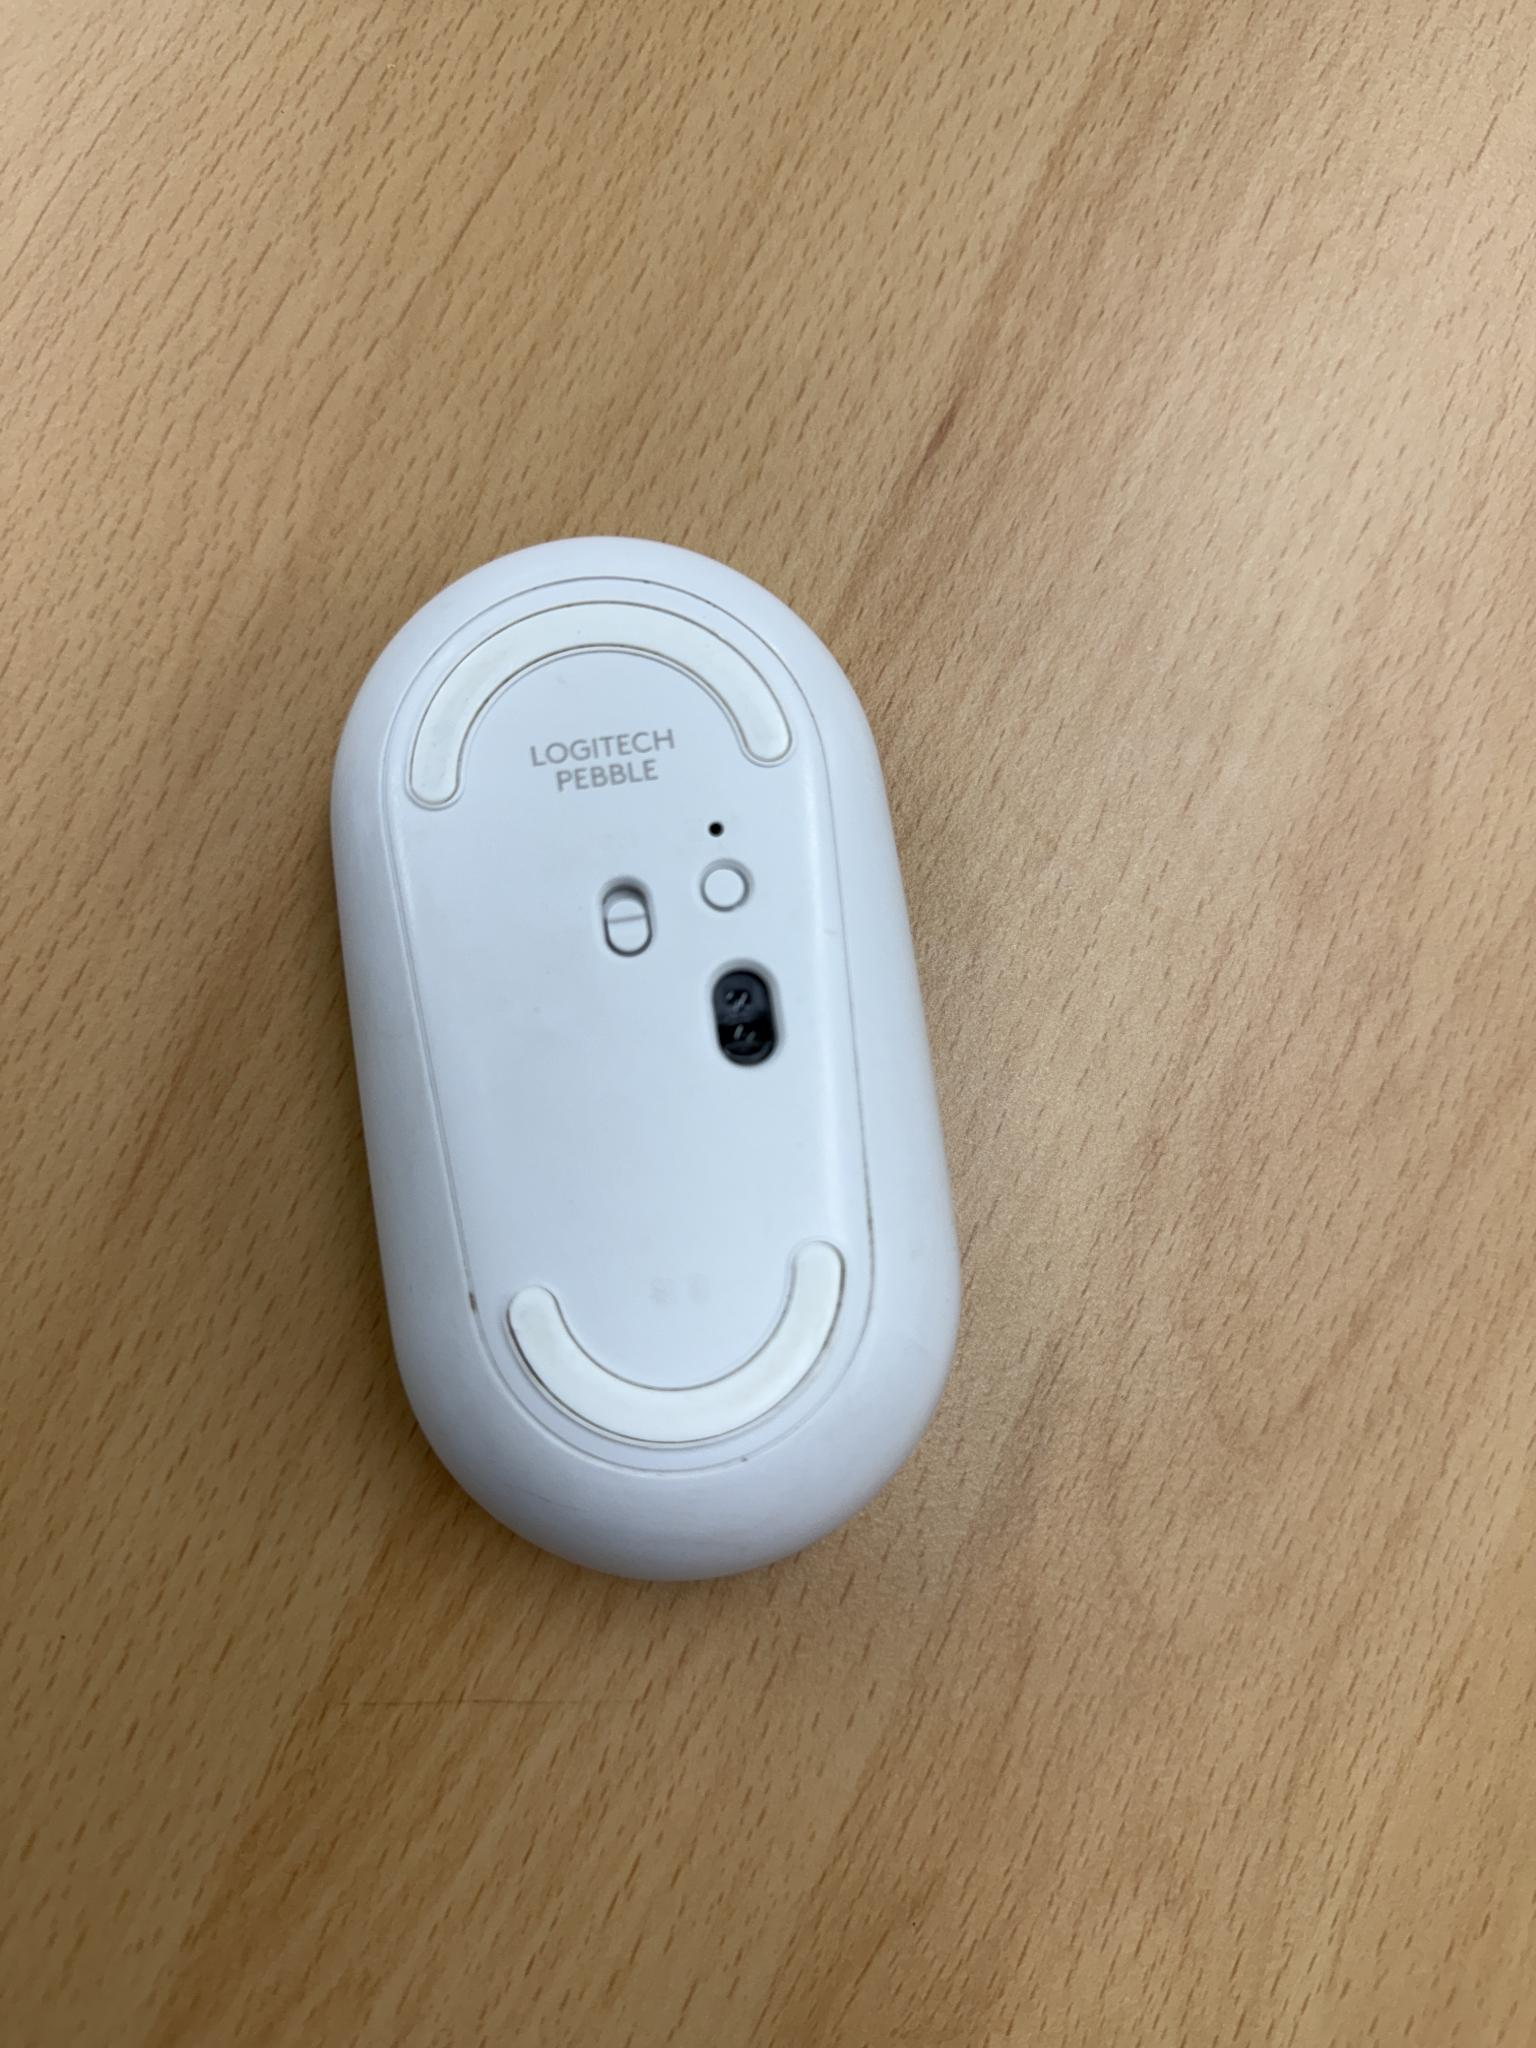back: (318, 529, 973, 1580)
